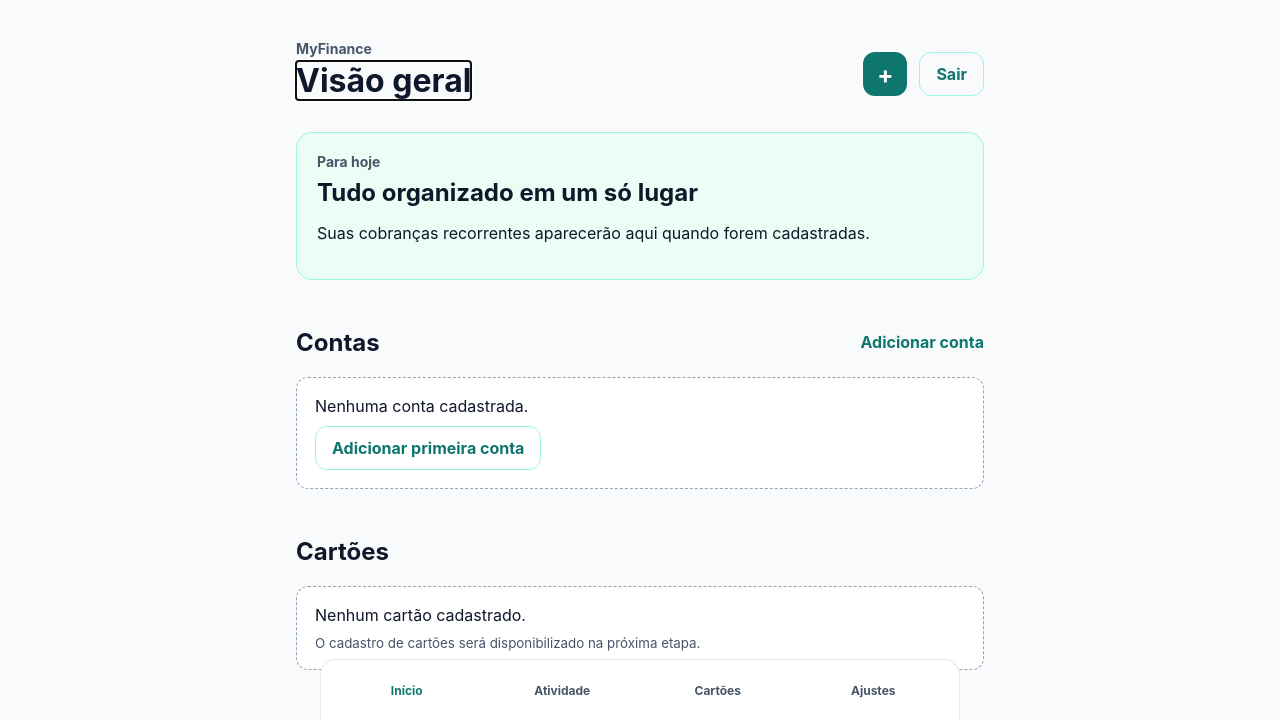
Test: Finance home data › explains that an active category already uses the chosen name
Click the button "Ajustes": click(873, 690) [796, 668, 951, 712]
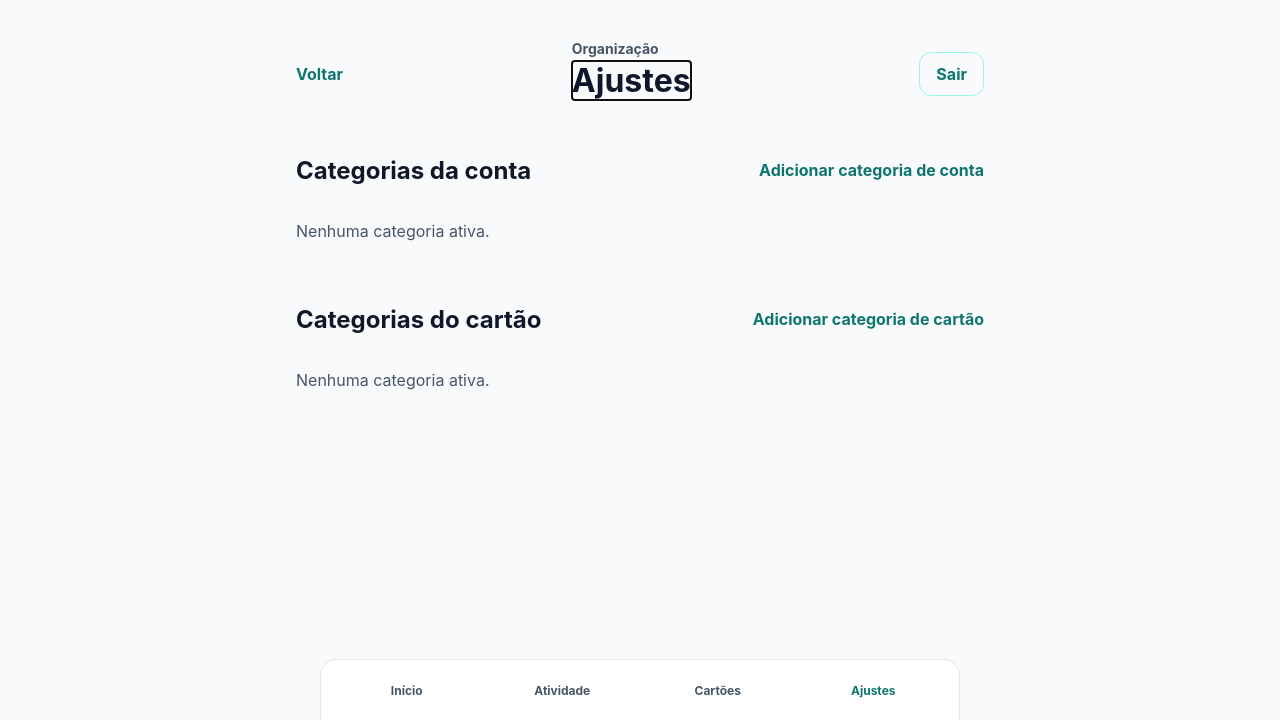
Click the button "Adicionar categoria de conta": click(872, 170) [759, 152, 984, 188]
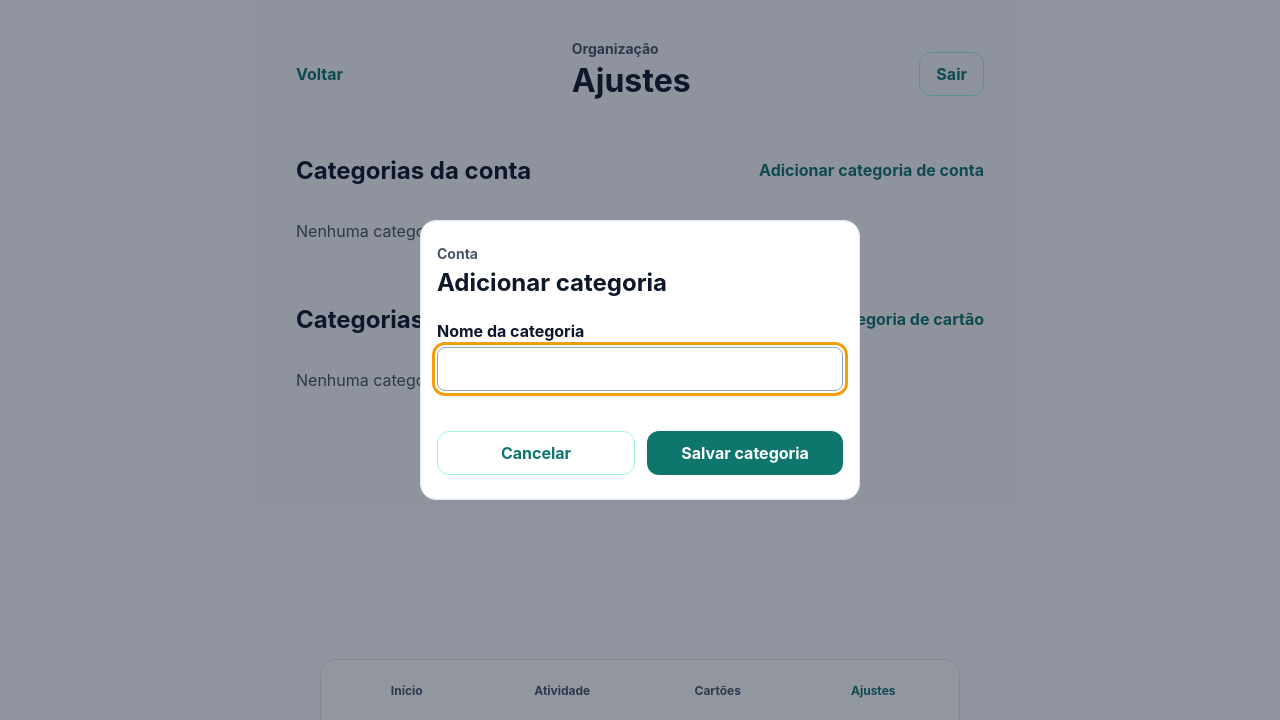
In the field labelled "Nome da categoria": (640, 369) [437, 347, 843, 391], type "Moradia"
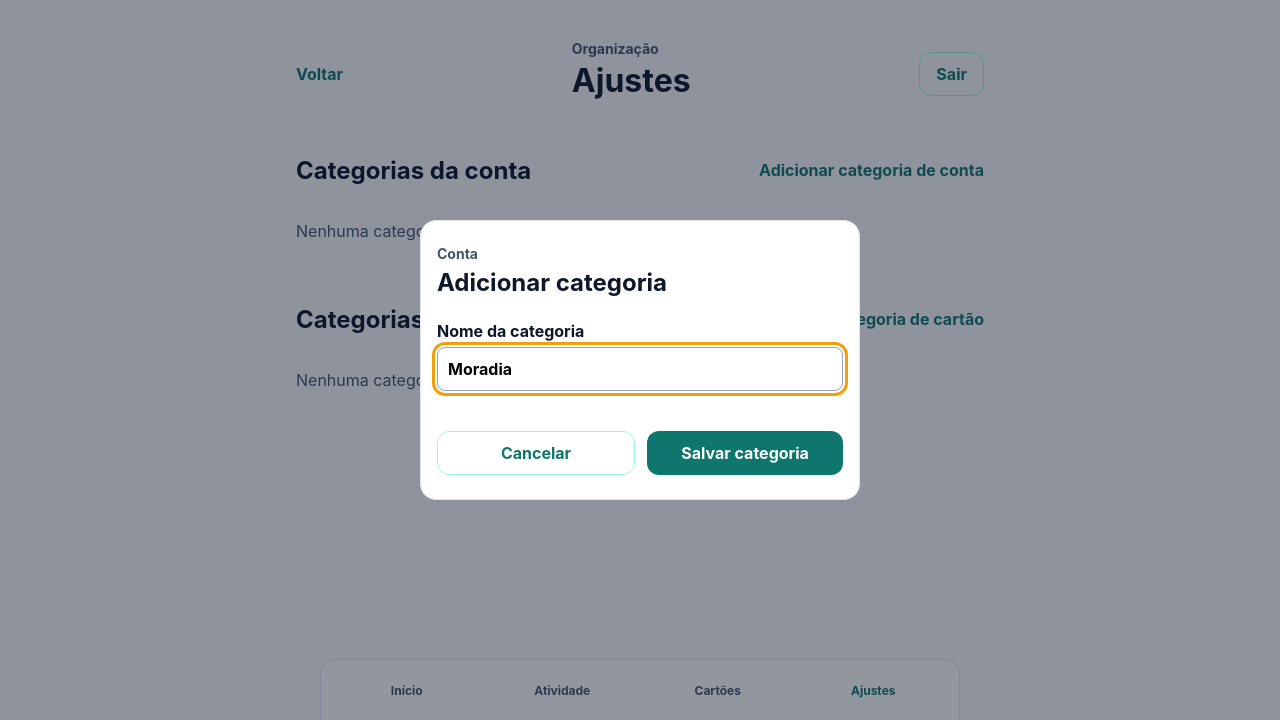
Click the button "Salvar categoria": click(745, 453) [647, 431, 843, 475]
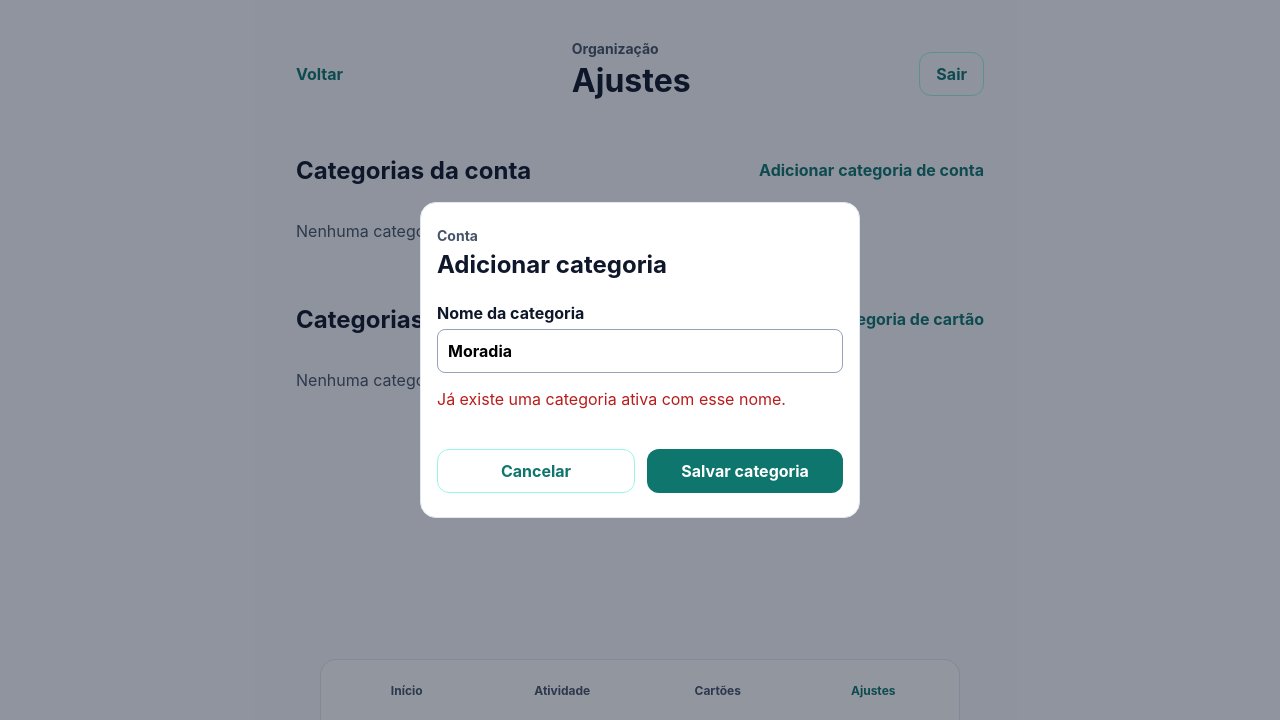
Result: the message reads "Já existe uma categoria ativa com esse nome." at [437, 389, 786, 409]
